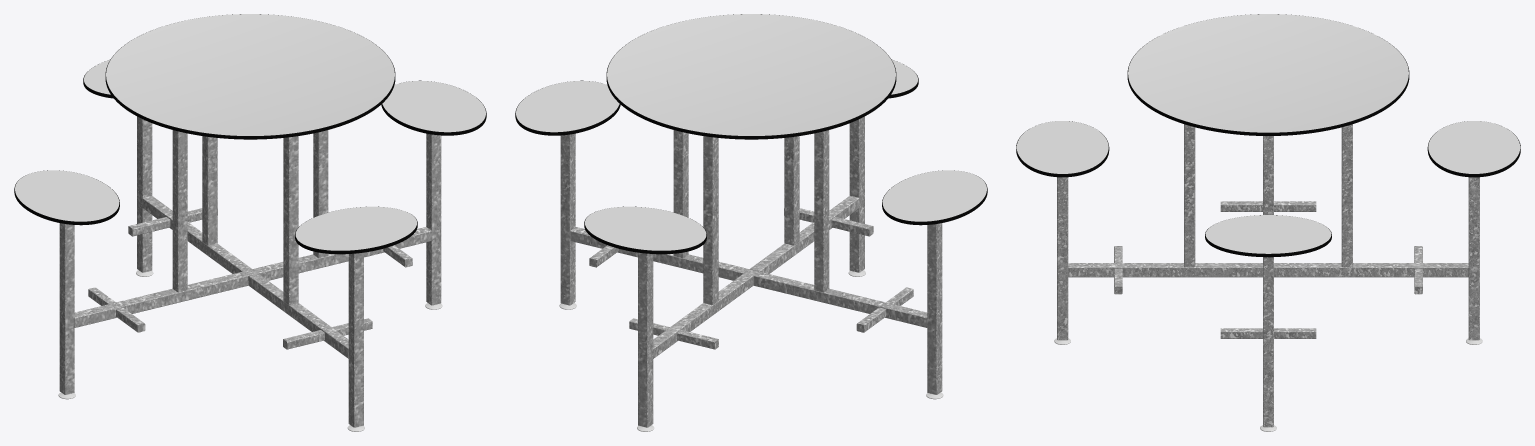
Rendered from kreis-team-105-small.glb.
The picture shows the model from 3 angles, left to right: view 1: azimuth 30°, elevation 25°; view 2: azimuth 150°, elevation 25°; view 3: azimuth 270°, elevation 25°; orthographic projection. The views are drawn at different scales.
Parts seen in each view (by area): view 1: Gestell, Tischplatte, Sitzplatte, Extruded.027, Extruded.034, Extruded.028, Extruded.030; view 2: Gestell, Tischplatte, Sitzplatte, Extruded.027, Extruded.032, Extruded.028, Extruded.030; view 3: Tischplatte, Gestell, Sitzplatte, Extruded.027, Extruded.030.
Boxes of the visible parts, bbox=[...] form: Gestell: bbox=[59, 116, 441, 427]; Tischplatte: bbox=[106, 14, 394, 135]; Sitzplatte: bbox=[15, 60, 485, 250]; Extruded.027: bbox=[105, 14, 395, 139]; Extruded.034: bbox=[295, 206, 417, 254]; Extruded.028: bbox=[14, 170, 119, 225]; Extruded.030: bbox=[381, 80, 486, 135]; Gestell: bbox=[560, 116, 942, 427]; Tischplatte: bbox=[607, 14, 895, 135]; Sitzplatte: bbox=[516, 60, 986, 250]; Extruded.027: bbox=[606, 14, 896, 139]; Extruded.032: bbox=[584, 206, 706, 254]; Extruded.028: bbox=[882, 170, 987, 225]; Extruded.030: bbox=[515, 80, 620, 135]; Tischplatte: bbox=[1128, 14, 1408, 132]; Gestell: bbox=[1057, 124, 1479, 427]; Sitzplatte: bbox=[1016, 121, 1520, 253]; Extruded.027: bbox=[1127, 14, 1409, 135]; Extruded.030: bbox=[1205, 215, 1331, 257].
Size of the model in its own units: 1.79 by 1.05 by 1.79.
3 materials, 1 textured.
